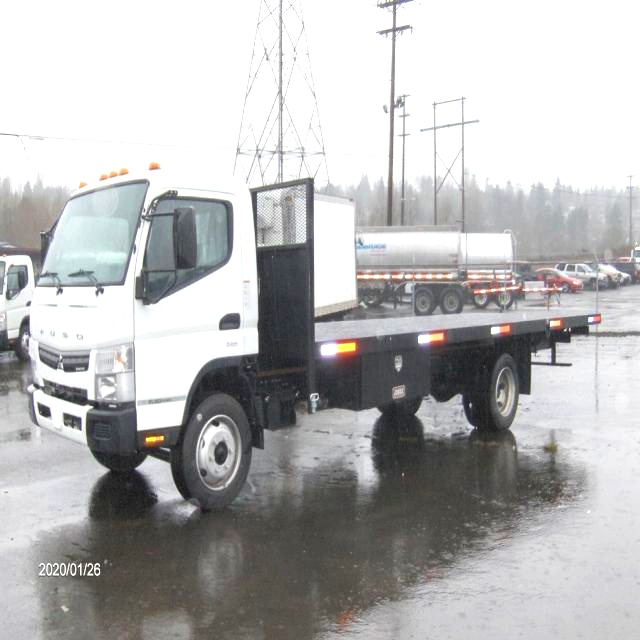truck: (13, 115, 609, 512)
